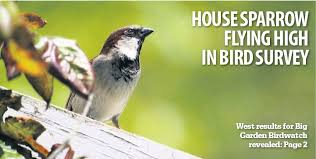hsparrow: (67, 22, 159, 131)
